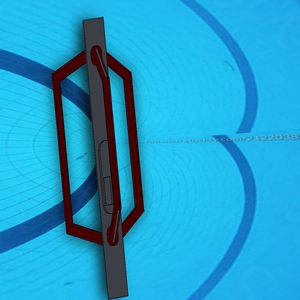submarine: (53, 18, 142, 297)
